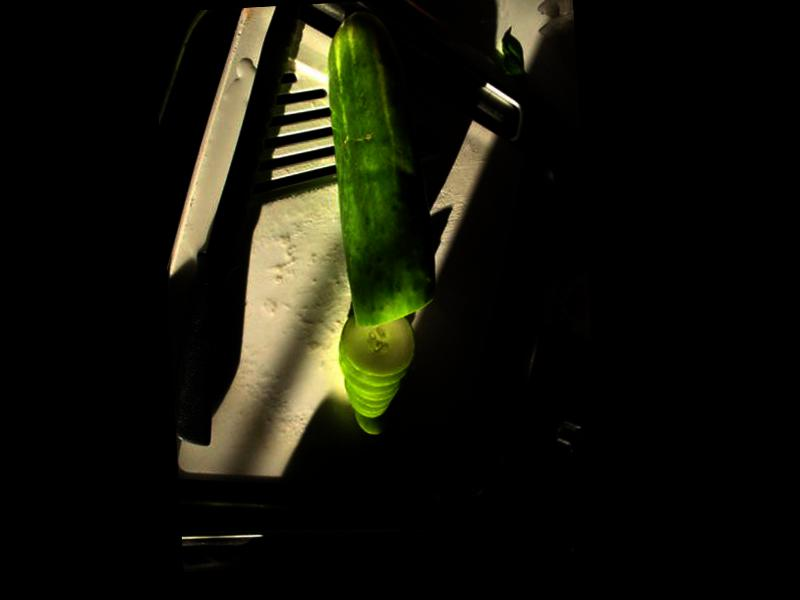Cucumber: (324, 7, 437, 330)
